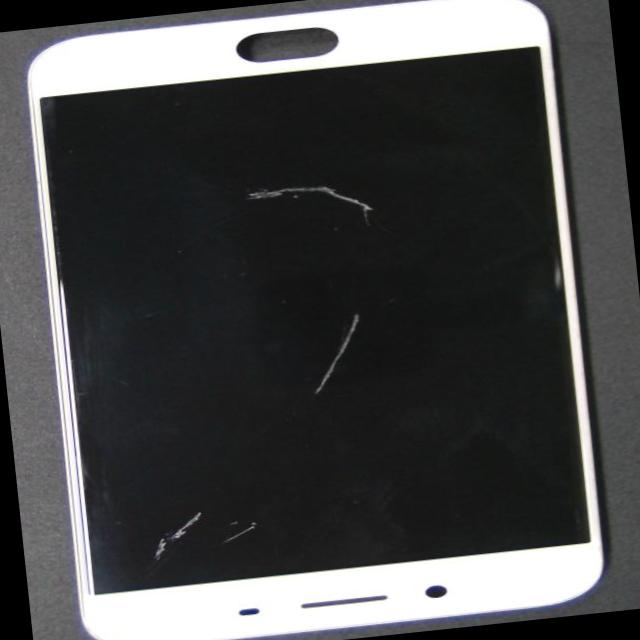scratch: (243, 176, 375, 229), (296, 312, 368, 398), (146, 509, 204, 558), (210, 514, 268, 548), (538, 250, 574, 298)
